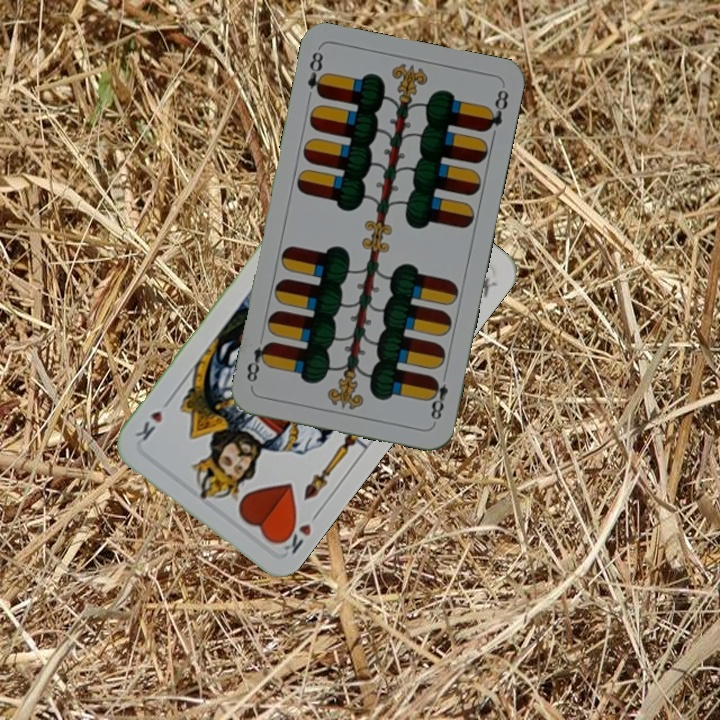E8: (303, 47, 329, 101), (425, 373, 451, 426)
HK: (274, 506, 323, 557)
